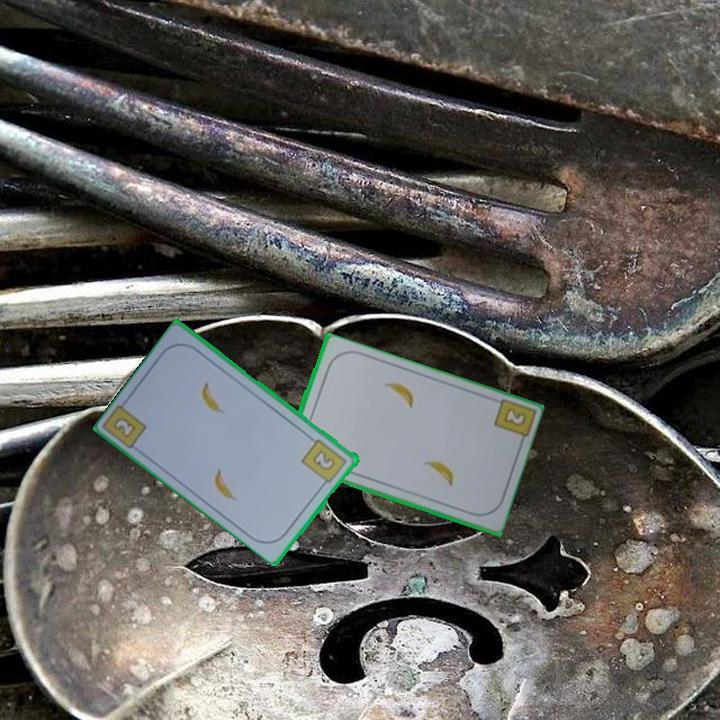2b: (298, 436, 350, 490), (500, 404, 529, 429), (112, 416, 137, 439)
